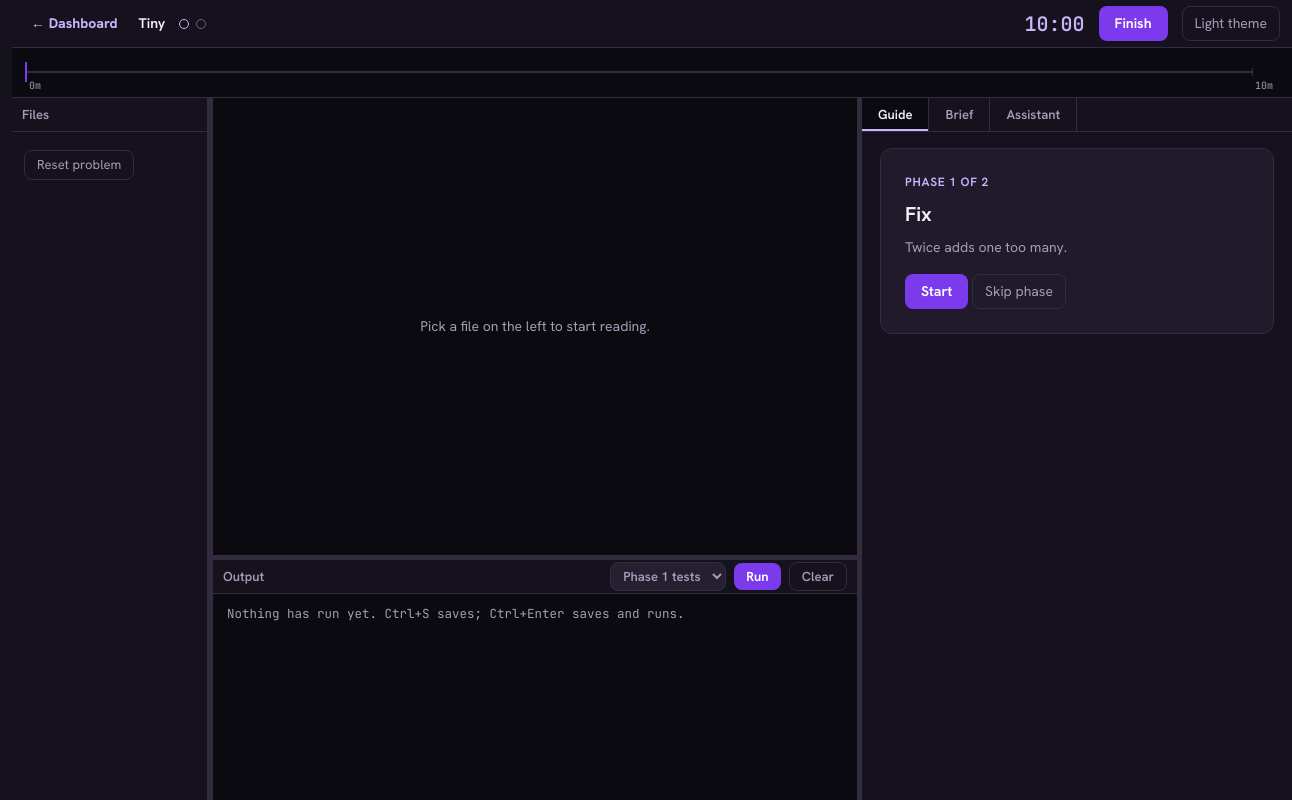
Test: the phase intro card › opens each phase with its name, one sentence, Start and Skip phase
Expected: the text "Twice adds one too many." is shown, top-left (905, 238), bottom-right (1067, 256)
Click the button "Start".
click(937, 292)  # box top-left (905, 274), bottom-right (968, 309)
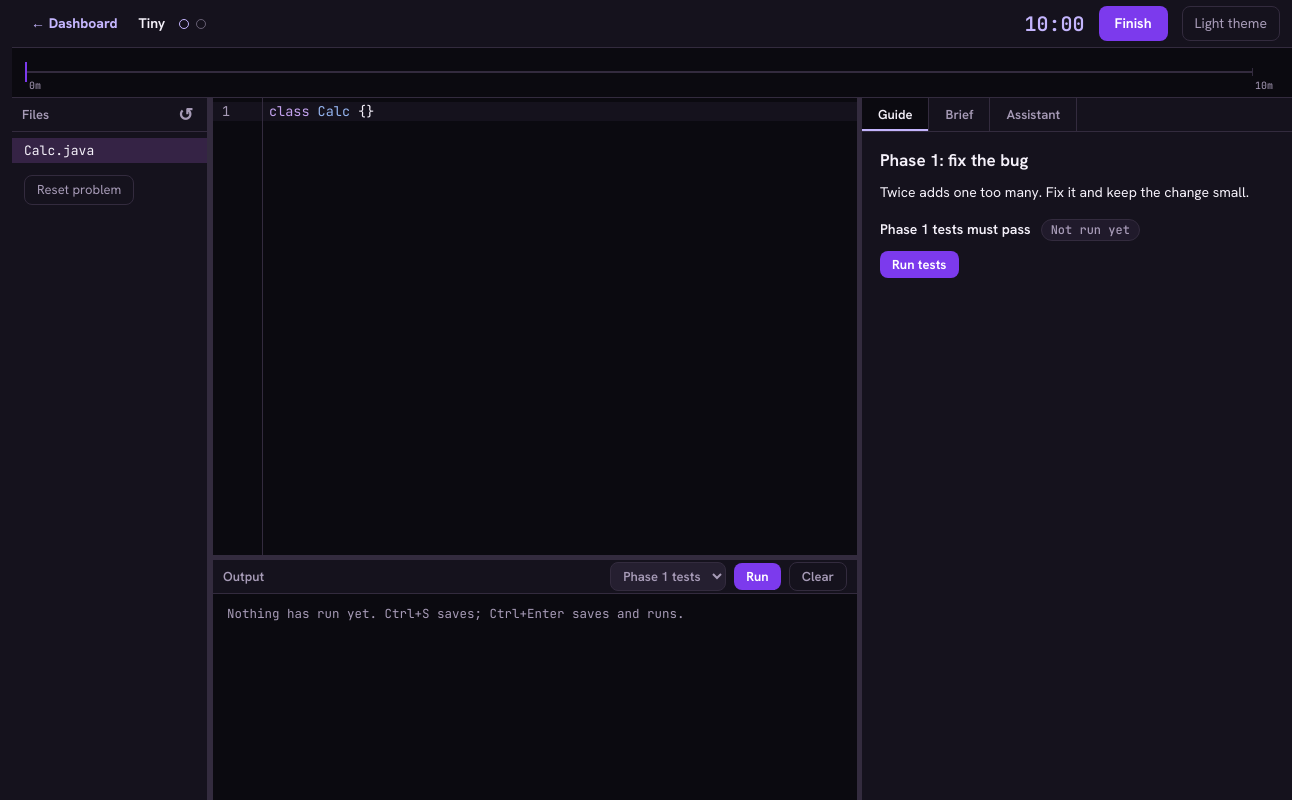
Now the text "Phase 1 tests must pass" is shown, box top-left (880, 219), bottom-right (1031, 240)
